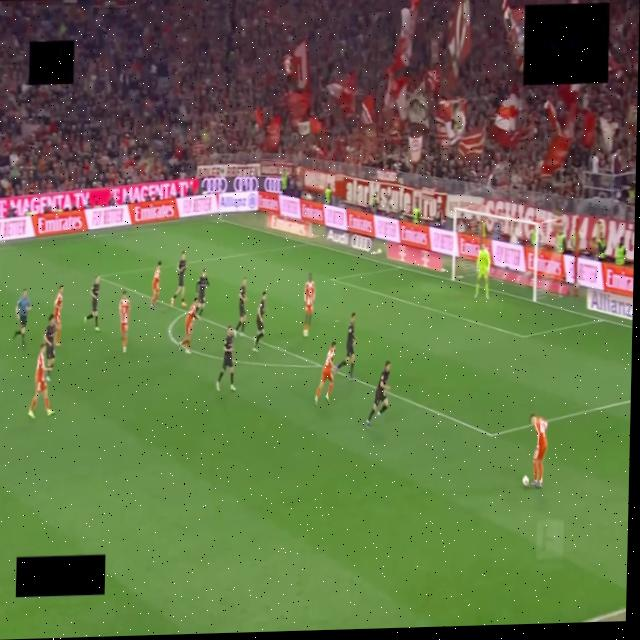ball: (522, 476, 529, 487)
player: (29, 342, 54, 418), (366, 360, 390, 428), (336, 312, 356, 380), (530, 414, 547, 488), (315, 342, 335, 404), (216, 326, 235, 391), (179, 298, 199, 353), (43, 314, 56, 381), (117, 289, 130, 354), (171, 250, 186, 306), (85, 276, 100, 332), (475, 245, 490, 298), (253, 291, 266, 351), (303, 274, 314, 337), (195, 269, 210, 315), (235, 278, 246, 334), (54, 286, 63, 346), (151, 261, 161, 307)
referee: (13, 288, 31, 350)
